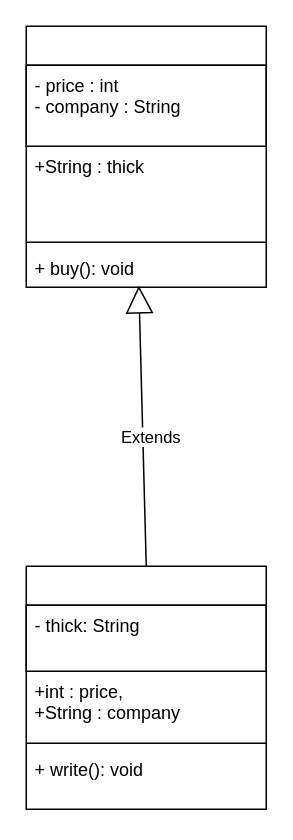
This 293x840 diagram has some shape labels left out. Here are the shapes that lost their labels. From the top down, the box of each, then its label:
(25, 25, 266, 287): schoolsub(학용품)
(25, 565, 266, 809): pen(볼펜)
